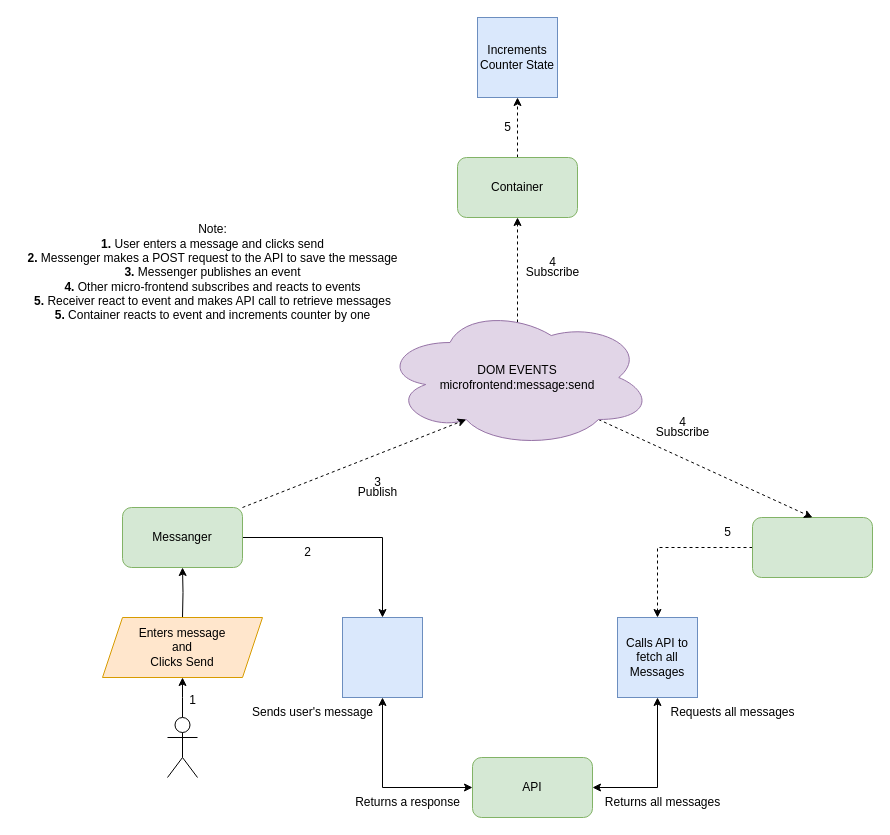
The diagram is 890 pixels wide and 835 high, and some of its shapes have lost their labels. The centre of each missing label's shape, as x and y in pixels:
"Actor" belongs at point (182, 747).
"Posts to api to save message" belongs at point (382, 657).
"Receiver" belongs at point (812, 547).
